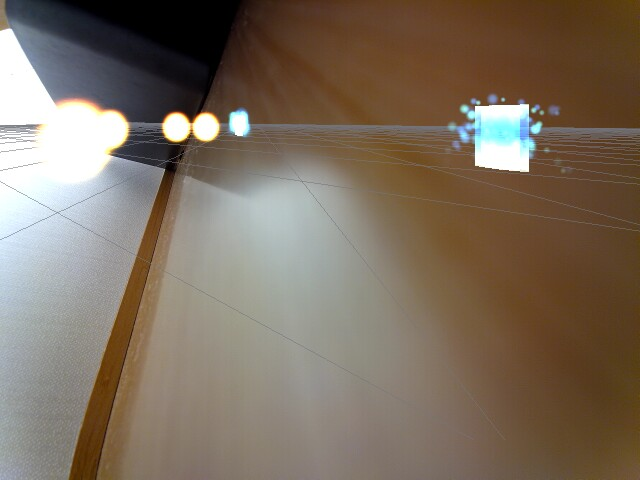fire: (33, 98, 114, 184), (105, 107, 132, 152), (161, 111, 192, 144), (192, 111, 221, 143)
